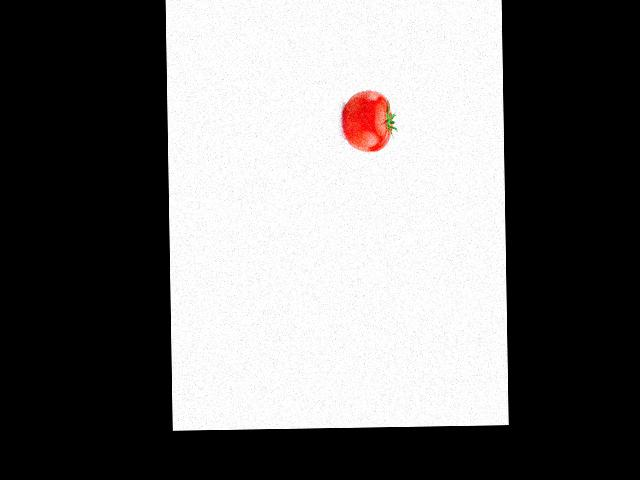tomato: (343, 90, 392, 153)
